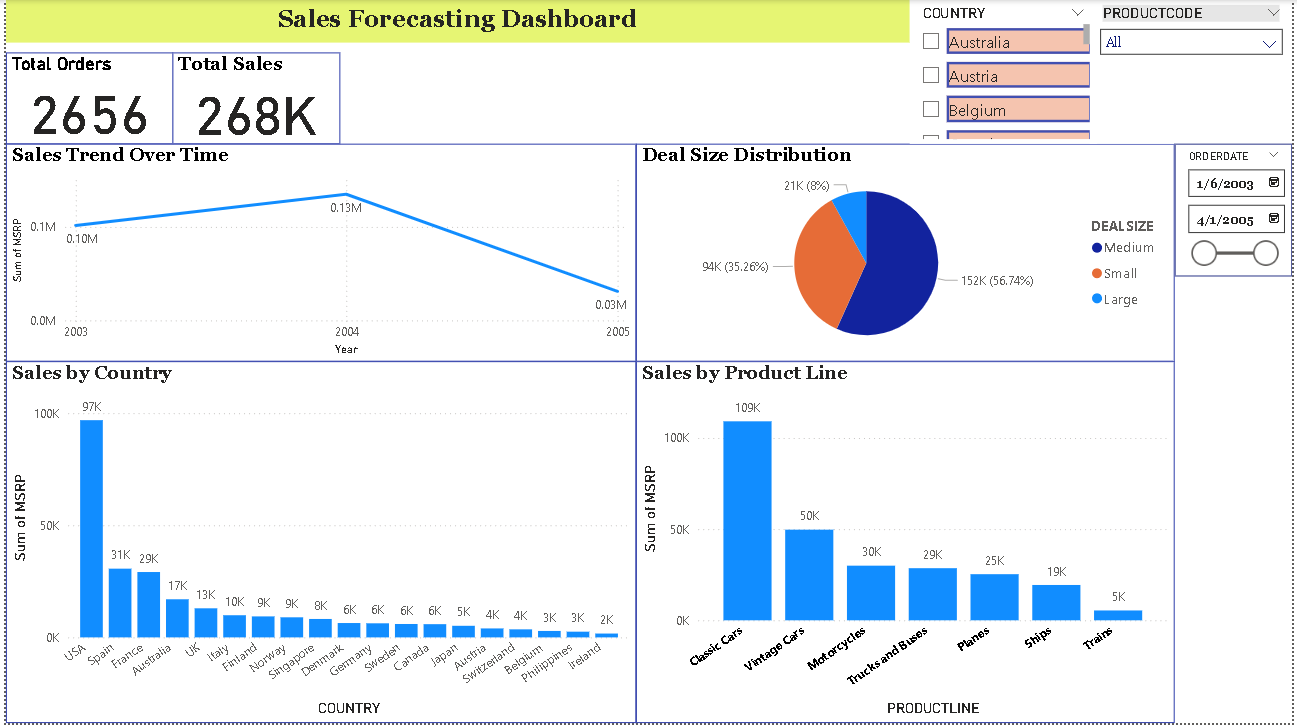

Layout of this report page (visuals, bound fields, positions):
{"tool":"powerbi","page":{"name":"Page 1","canvas":[1280,720],"ordinal":0},"visuals":[{"type":"lineChart","title":" Sales Trend Over Time","fields":{"Category":["sales_data_sample.ORDERDATE.Variation.Date Hierarchy.Year","sales_data_sample.ORDERDATE.Variation.Date Hierarchy.Month"],"Y":["Sum(sales_data_sample.MSRP)"]},"box":[0,143,627,217],"z":0},{"type":"columnChart","title":"Sales by Country","fields":{"Category":["sales_data_sample.COUNTRY"],"Y":["Sum(sales_data_sample.MSRP)"]},"box":[0,360,627,360],"z":1000},{"type":"columnChart","title":"Sales by Product Line","fields":{"Category":["sales_data_sample.PRODUCTLINE"],"Y":["Sum(sales_data_sample.MSRP)"]},"box":[627,360,536,360],"z":2000},{"type":"pieChart","title":"Deal Size Distribution","fields":{"Category":["sales_data_sample.DEALSIZE"],"Y":["Sum(sales_data_sample.MSRP)"]},"box":[627,143,536,217],"z":3000},{"type":"card","title":"Total Sales","fields":{"Values":["Sum(sales_data_sample.MSRP)"]},"box":[166,52,167,91],"z":4000},{"type":"card","title":"Total Orders","fields":{"Values":["CountNonNull(sales_data_sample.ORDERNUMBER)"]},"box":[0,52,166,91],"z":5000},{"type":"slicer","fields":{"Values":["sales_data_sample.COUNTRY"]},"box":[899,0,186,143],"z":6000},{"type":"slicer","fields":{"Values":["sales_data_sample.PRODUCTCODE"]},"box":[1078,0,202,143],"z":7000},{"type":"slicer","fields":{"Values":["sales_data_sample.ORDERDATE"]},"box":[1163,143,117,132],"z":8000},{"type":"textbox","box":[0,0,899,42],"z":9000}]}

Visuals, with their boxes in screenshot pixels (x1, y1, x2, y2), scaled from the page's 1280x720 canvas onto the 1297x726 screenshot:
" Sales Trend Over Time" lineChart: Rect(0, 144, 635, 363)
"Sales by Country" columnChart: Rect(0, 363, 635, 725)
"Sales by Product Line" columnChart: Rect(635, 363, 1178, 725)
"Deal Size Distribution" pieChart: Rect(635, 144, 1178, 363)
"Total Sales" card: Rect(168, 52, 337, 144)
"Total Orders" card: Rect(0, 52, 168, 144)
slicer - sales_data_sample.COUNTRY: Rect(911, 0, 1099, 144)
slicer - sales_data_sample.PRODUCTCODE: Rect(1092, 0, 1296, 144)
slicer - sales_data_sample.ORDERDATE: Rect(1178, 144, 1296, 277)
textbox: Rect(0, 0, 911, 42)
